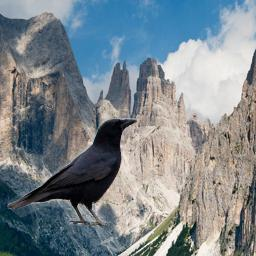Crow: (7, 118, 138, 226)
